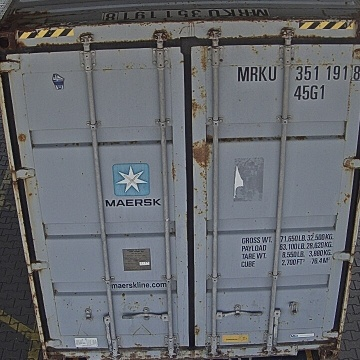serial_id: (238, 64, 360, 81)
